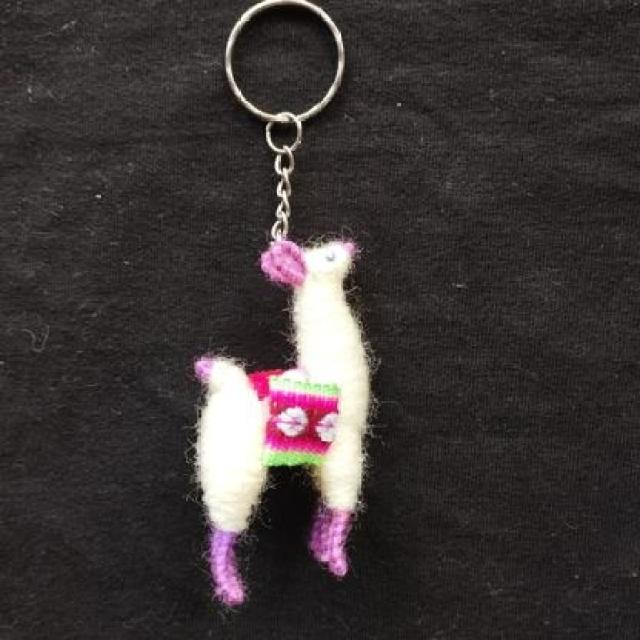Llavero: (189, 235, 373, 608)
